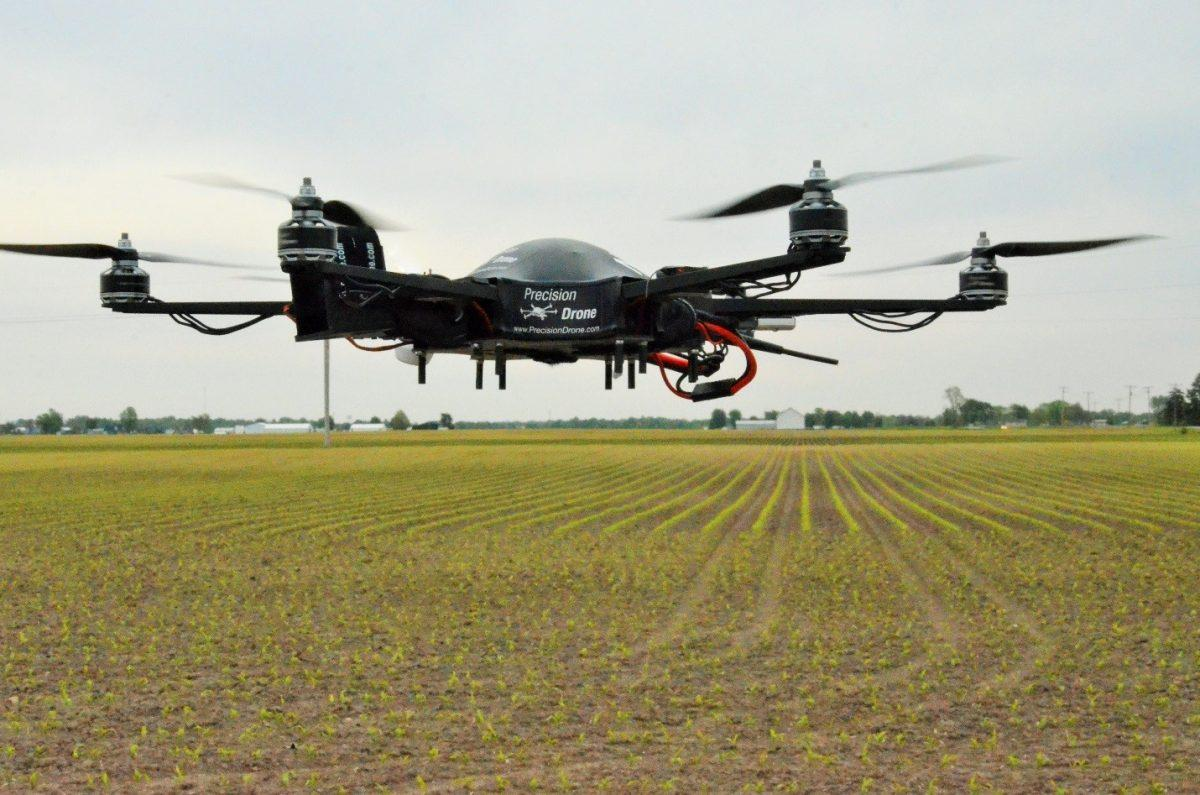drone: (1, 149, 1176, 403)
